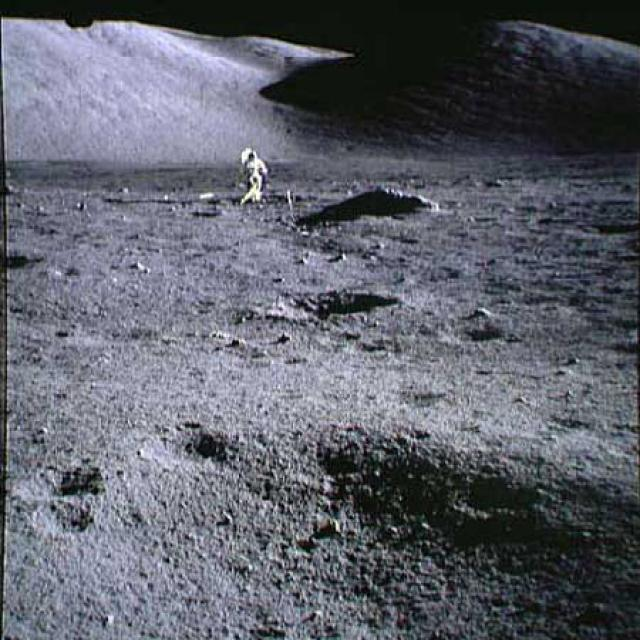crater: (270, 285, 400, 321), (126, 426, 238, 464), (12, 464, 102, 497), (443, 325, 502, 345), (3, 249, 44, 275)
rock: (307, 184, 434, 216)
